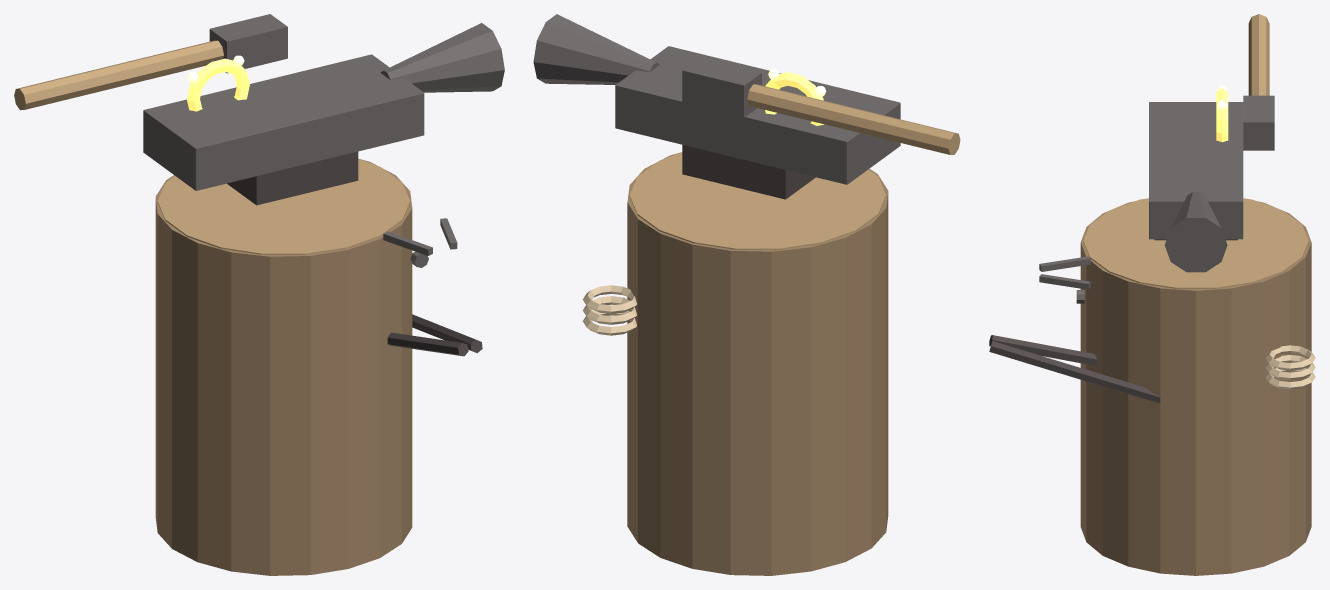
File: blacksmith_anvil.glb
3 views of the same model, side by side, from view 1: azimuth 30°, elevation 25°; view 2: azimuth 150°, elevation 25°; view 3: azimuth 270°, elevation 25° (orthographic). The views are drawn at different scales.
Visible parts, largest first — view 1: blacksmith_anvil; view 2: blacksmith_anvil; view 3: blacksmith_anvil.
Boxes of the visible parts, <box> form: blacksmith_anvil: <box>14,14,504,575</box>; blacksmith_anvil: <box>533,14,960,575</box>; blacksmith_anvil: <box>989,14,1315,575</box>.
Size of the model in its own units: 0.85 by 0.88 by 0.6224.
